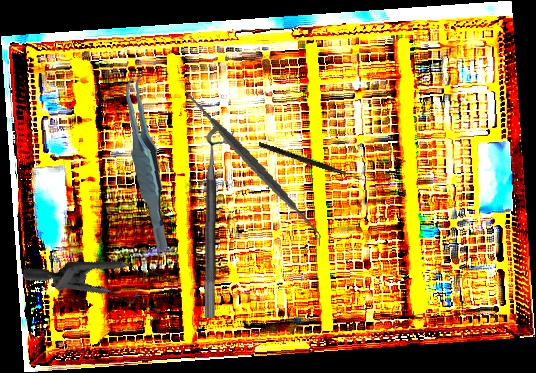Fixation Ring: (202, 126, 236, 319)
Hook Surgical: (257, 141, 366, 183)
Spatula Surgical: (169, 83, 338, 246)
Speculum: (20, 218, 186, 361)
Tissue Forceps: (116, 69, 178, 253)
